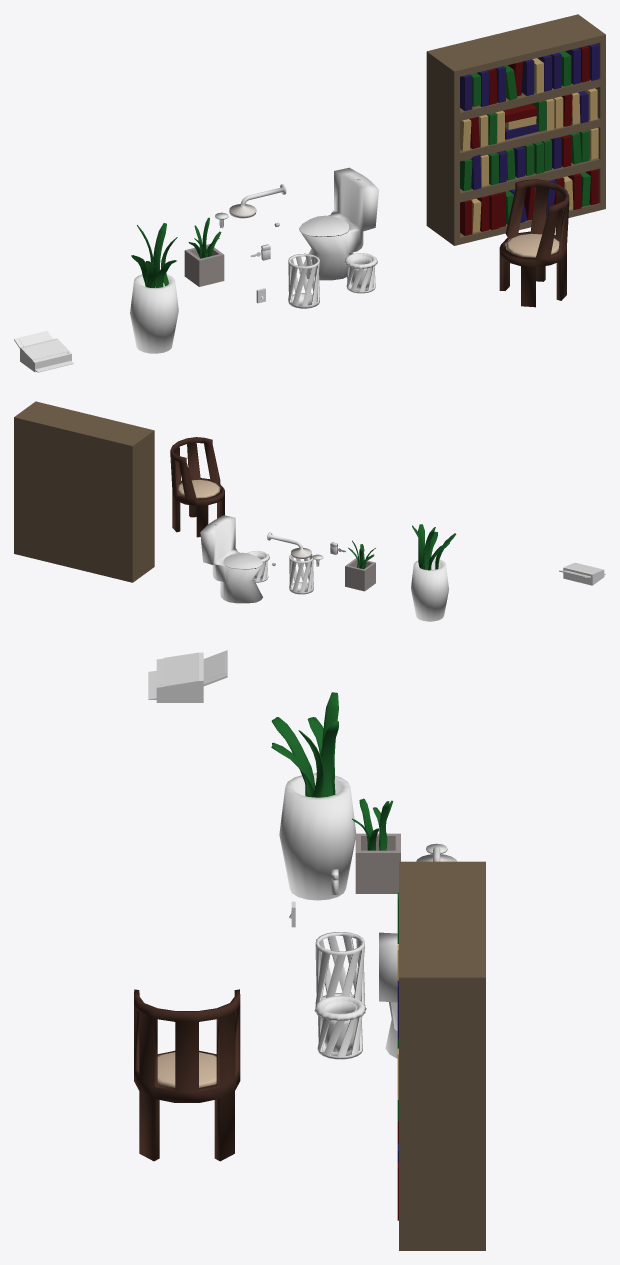
The model's file is Mais_objetos.fbx.
The picture shows the model from 3 angles, top to bottom: view 1: azimuth 30°, elevation 25°; view 2: azimuth 150°, elevation 25°; view 3: azimuth 270°, elevation 25°; orthographic projection. The views are drawn at different scales.
Visible parts, largest first — view 1: Estante_livros.001, Cadeira_Diferente.001, Vaso_Planta_2.001, Cylinder.016, Vaso_Planta_1.001, Cesto_Roupa, Impressora.001, Circle.007, Cylinder.002, Chuveiro.001; view 2: Estante_livros.001, Cadeira_Diferente.001, Cylinder.016, Vaso_Planta_2.001, Vaso_Planta_1.001, Cesto_Roupa, Impressora.001, Cylinder.002, Chuveiro.001, Circle.007; view 3: Estante_livros.001, Cadeira_Diferente.001, Vaso_Planta_2.001, Vaso_Planta_1.001, Impressora.001, Cesto_Roupa, Circle.007, Cylinder.016.
Part boxes in pixels (x1,y1,x2,y2): Estante_livros.001: (426,14,605,245); Cadeira_Diferente.001: (499,179,569,307); Vaso_Planta_2.001: (130,223,178,353); Cylinder.016: (299,167,378,280); Vaso_Planta_1.001: (184,217,224,286); Cesto_Roupa: (288,253,319,308); Impressora.001: (14,330,73,372); Circle.007: (344,253,377,293); Cylinder.002: (299,215,349,237); Chuveiro.001: (229,184,286,218); Estante_livros.001: (14,401,154,582); Cadeira_Diferente.001: (170,437,224,537); Cylinder.016: (200,515,262,603); Vaso_Planta_2.001: (411,524,456,621); Vaso_Planta_1.001: (345,540,375,591); Cesto_Roupa: (289,554,313,594); Impressora.001: (559,562,605,585); Cylinder.002: (223,552,263,569); Chuveiro.001: (267,532,311,558); Circle.007: (247,550,269,582); Estante_livros.001: (397,861,485,1250); Cadeira_Diferente.001: (134,989,240,1161); Vaso_Planta_2.001: (271,692,356,900); Vaso_Planta_1.001: (352,798,400,893); Impressora.001: (148,650,227,702); Cesto_Roupa: (315,932,365,1005); Circle.007: (314,996,366,1059); Cylinder.016: (379,932,398,1058).
Bounding box in the file's own units: 10840 × 2813 × 3253.
